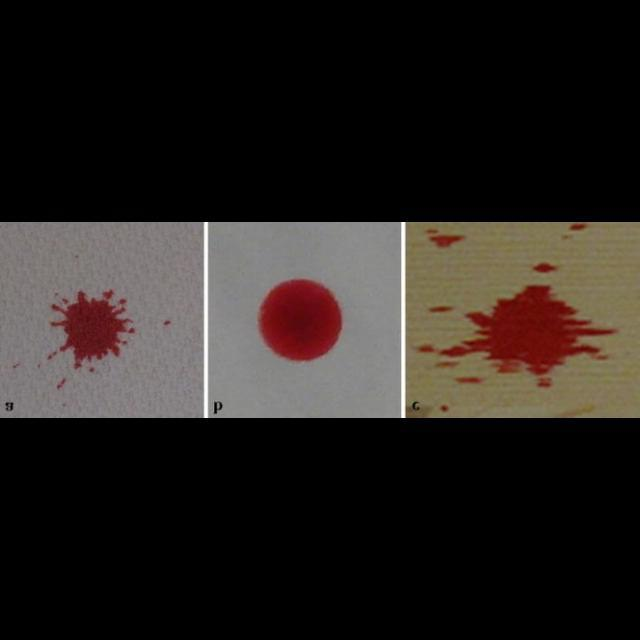blood: (438, 285, 614, 375), (257, 278, 343, 362), (50, 289, 135, 370)
